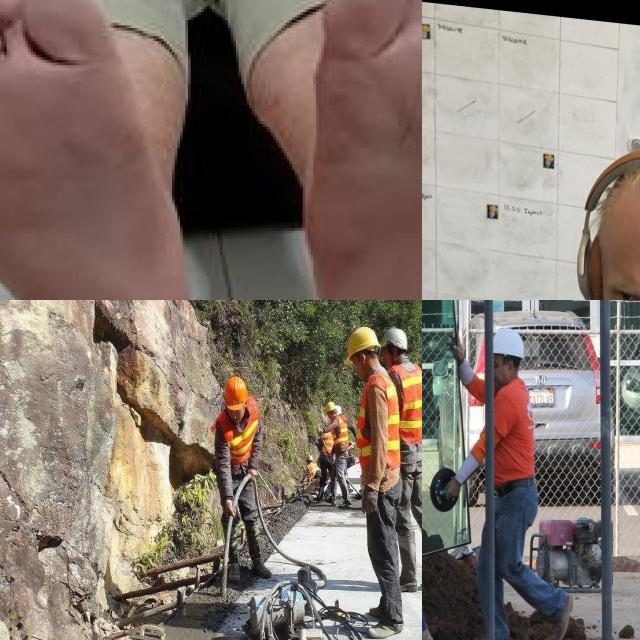Barefoots: (0, 0, 223, 300), (260, 0, 422, 300)
Ear-protection: (554, 118, 640, 300)
No_Glasses: (603, 272, 640, 300)
face_nomask: (482, 353, 514, 394), (352, 351, 372, 381), (224, 403, 247, 422)
hand_glove: (360, 479, 383, 524)
hand_noglove: (442, 322, 467, 364), (442, 474, 462, 510), (222, 494, 240, 520), (247, 470, 260, 485)
head_helmet: (492, 325, 526, 358), (221, 376, 248, 408), (344, 324, 378, 348), (389, 328, 411, 349), (322, 401, 338, 413), (304, 452, 314, 462)
person: (444, 325, 544, 640), (344, 329, 400, 639), (215, 374, 266, 592), (391, 329, 422, 595), (321, 402, 355, 499), (299, 443, 324, 494)
shoes: (539, 585, 577, 640), (366, 610, 406, 640), (397, 556, 419, 595), (224, 553, 248, 584), (251, 554, 272, 582)
vest: (360, 378, 399, 480), (394, 368, 422, 442), (225, 426, 258, 466), (318, 436, 334, 452), (308, 464, 320, 479)
